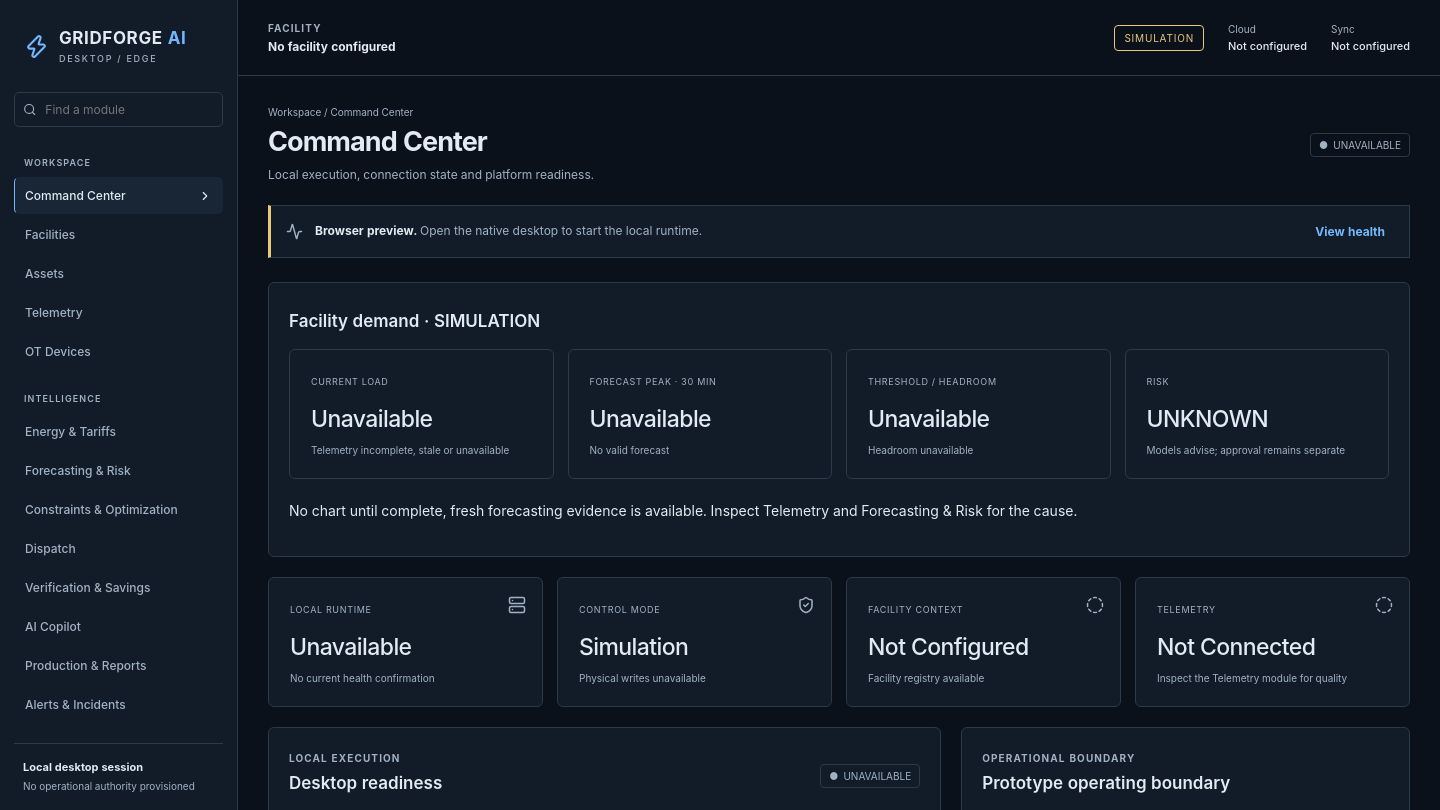
Phase 1 desktop shell › renders honest browser preview and reserves future modules without fake data
The image size is (1440, 810).
Click the button "Telemetry". click: [118, 312]
box: [14,294,223,331]
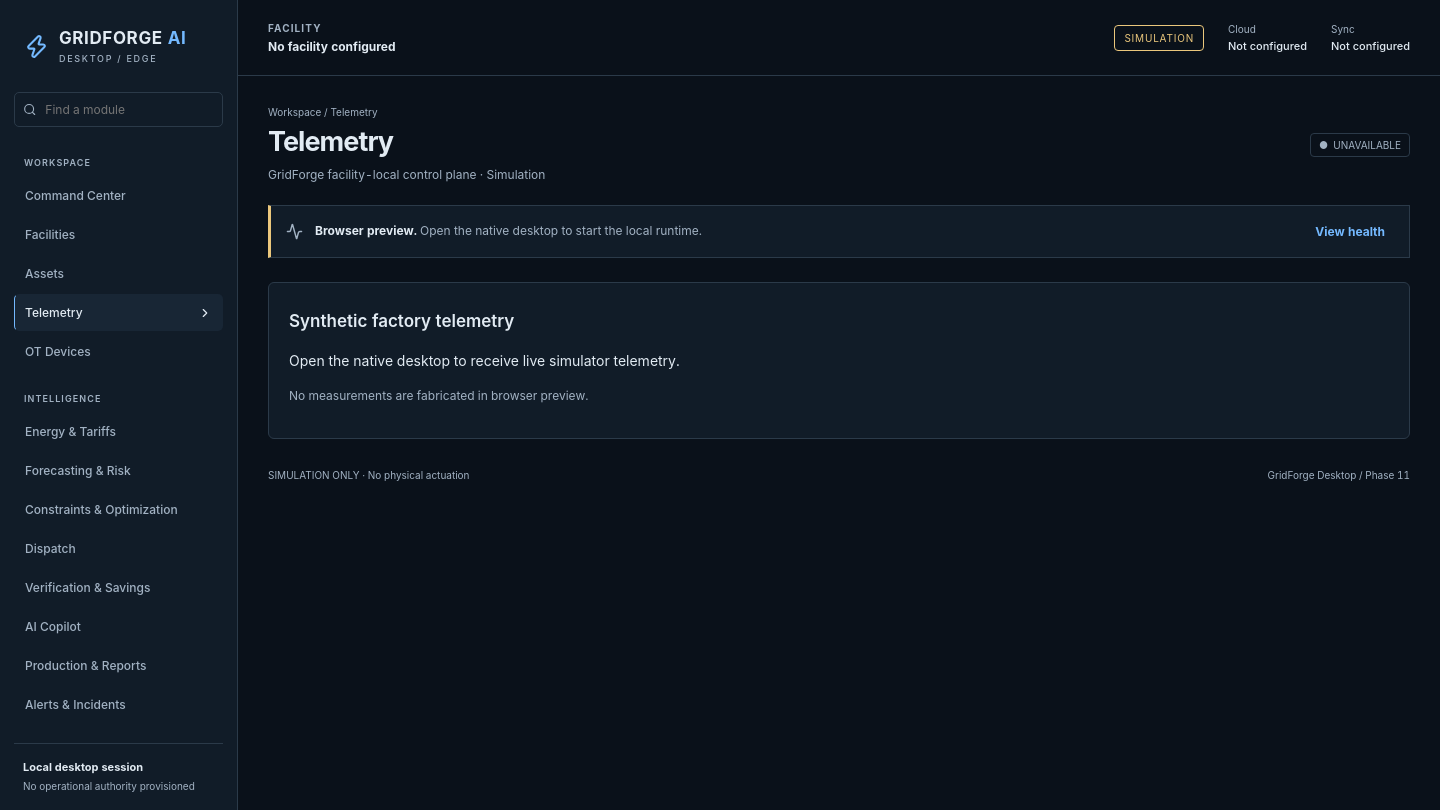
expect the text "Open the native desktop to receive live simulator telemetry." is shown: met, box [289,352,680,369]
